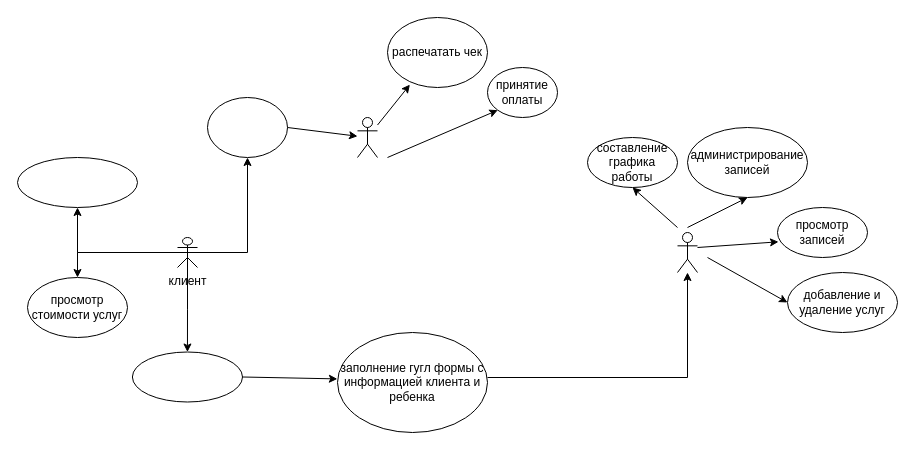
The diagram is 915 pixels wide and 450 high, and some of its shapes have lost their labels. The centre of each missing label's shape, as x and y in pixels:
Администратор: [687,252]
запись ребенка на занятие: [186,376]
Кассир: [367,137]
ознакомление с информацией на сайте: [77,182]
оплата занятия: [247,127]
